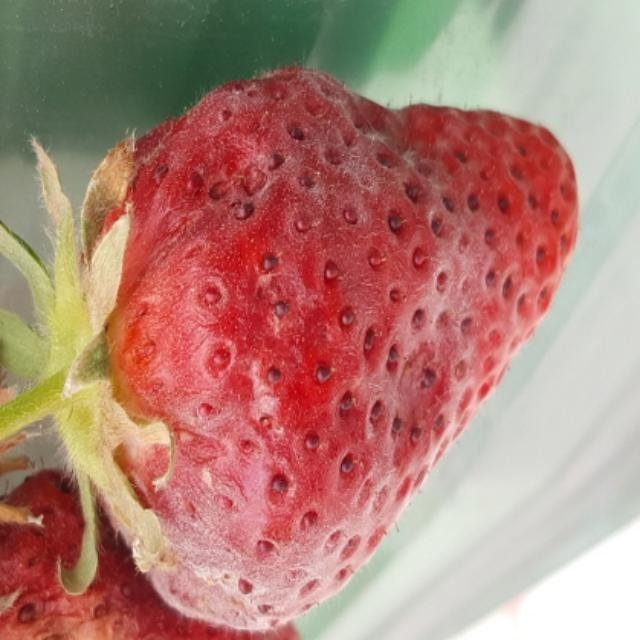Powdery Mildew Fruit: (56, 69, 580, 631)
